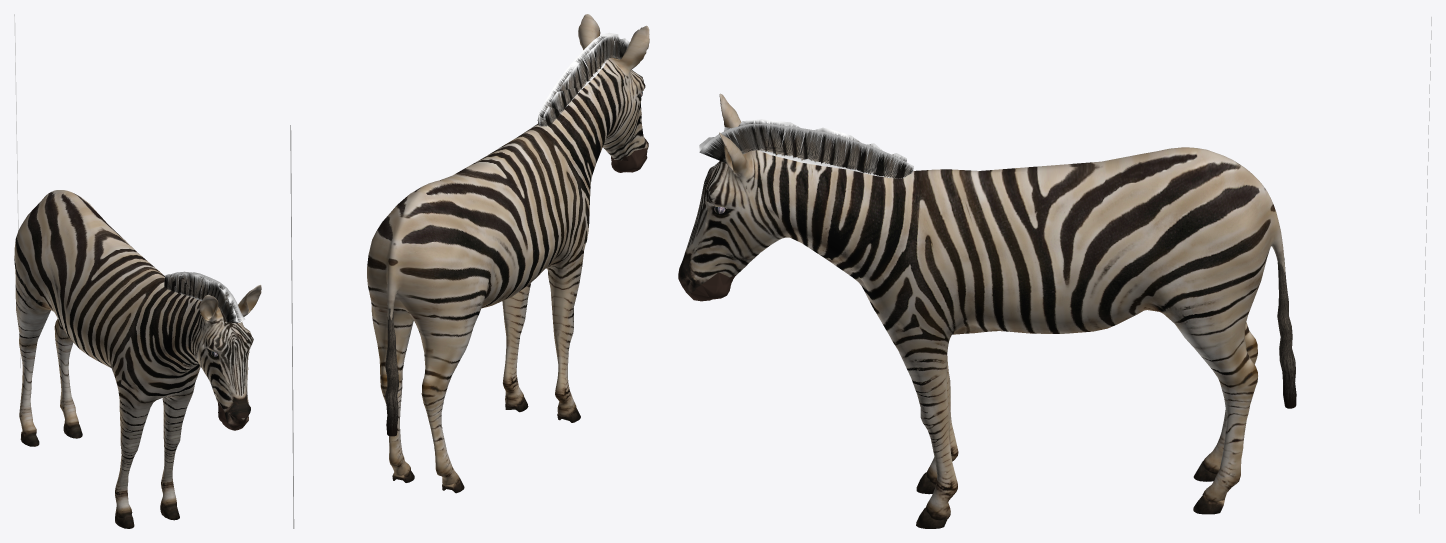
3 renders of one model, left to right at view 1: azimuth 30°, elevation 25°; view 2: azimuth 150°, elevation 25°; view 3: azimuth 270°, elevation 25°, orthographic. The views are drawn at different scales.
Parts seen in each view (by area): view 1: zebra; view 2: zebra, Плоскость; view 3: zebra.
Part boxes in pixels (x1=…): zebra: x1=14, y1=190, x2=261, y2=528; zebra: x1=367, y1=14, x2=649, y2=493; Плоскость: x1=290, y1=125, x2=294, y2=528; zebra: x1=678, y1=93, x2=1296, y2=528.
Bounding box in the file's own units: 8.35 × 33.35 × 43.45.
5 materials, 4 textured.
